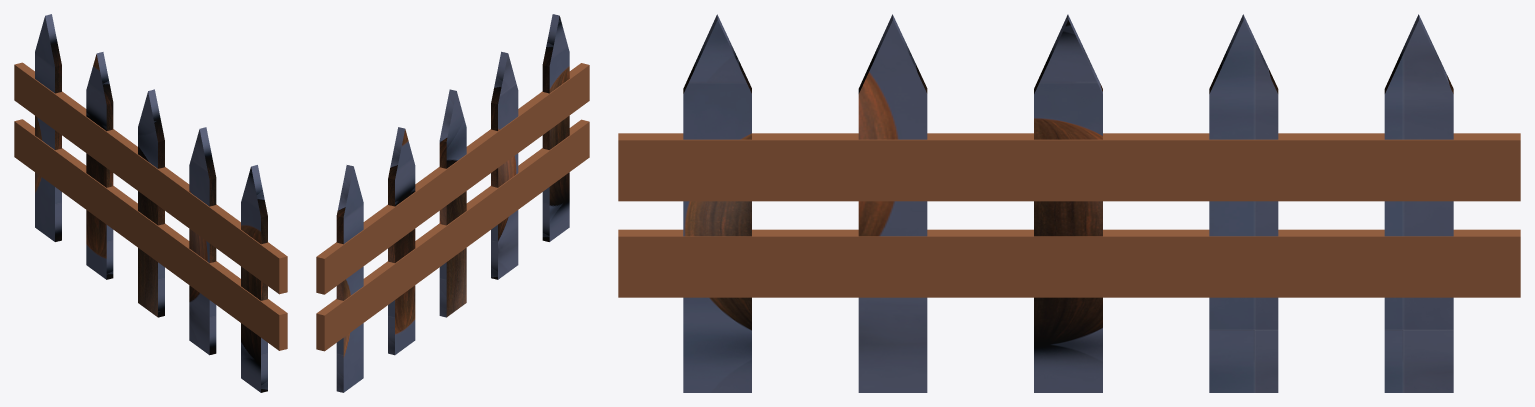
The model's file is fence.fbx.
3 renders of one model, left to right at view 1: azimuth 30°, elevation 25°; view 2: azimuth 150°, elevation 25°; view 3: azimuth 270°, elevation 25°, orthographic. The views are drawn at different scales.
Visible parts, largest first — view 1: Cube_018; view 2: Cube_018; view 3: Cube_018.
Part boxes in pixels (x1,y1,x2,y2): Cube_018: (14,14,287,392); Cube_018: (316,14,589,392); Cube_018: (618,14,1520,392).
Bounding box in the file's own units: 0.0683 × 1.71 × 3.74.
